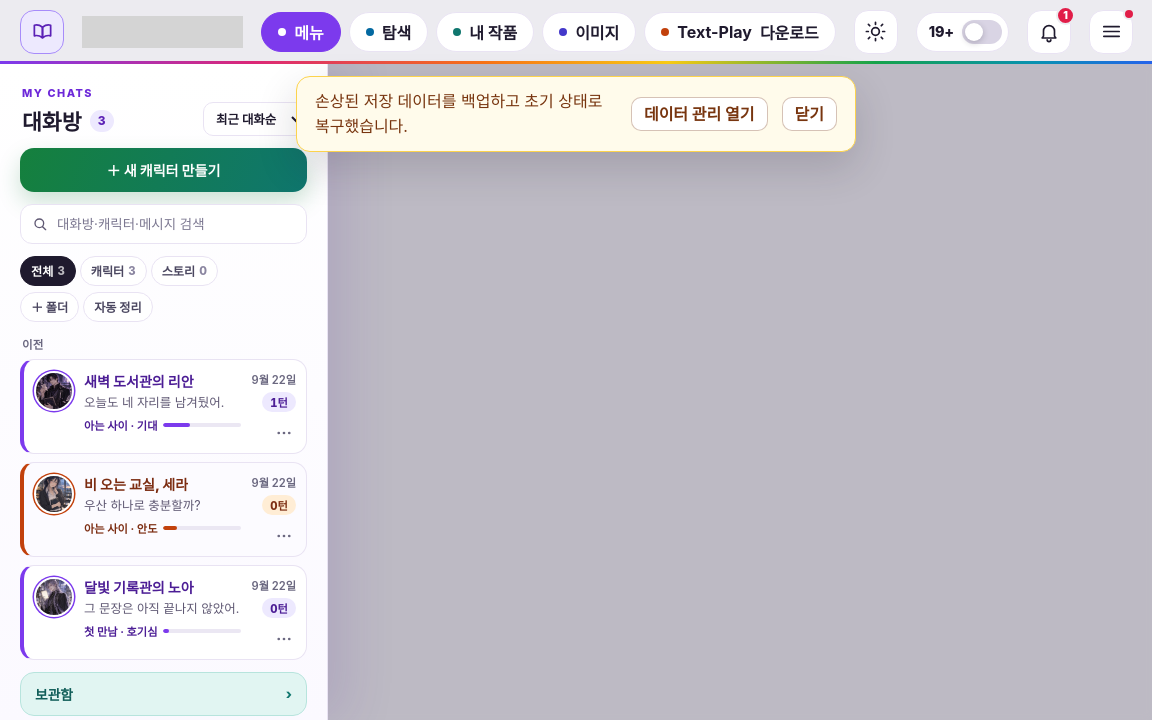
저장소 상태 안내 › 손상 데이터를 복구했다는 안내와 데이터 관리 링크를 보여 주고 닫을 수 있다
Step 1. Click the button "닫기" → (809, 114), box left=782, top=97, right=837, bottom=131
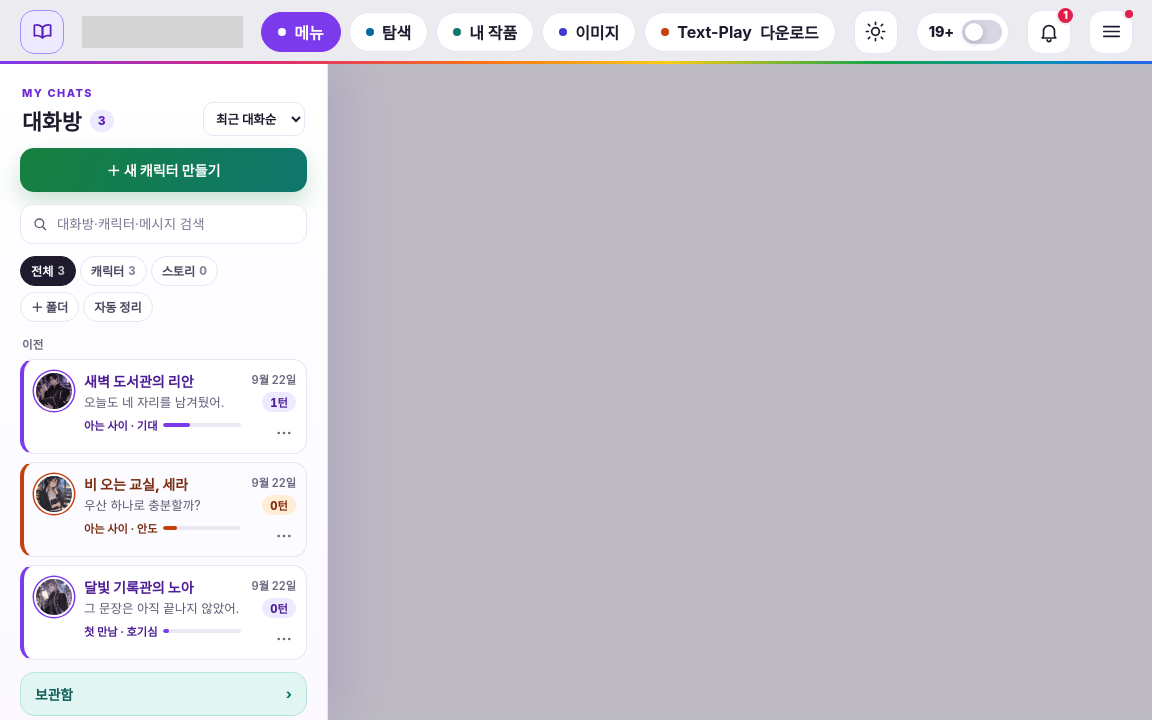
Now the text "손상된 저장 데이터를 백업하고 초기 상태로 복구했습니다." is gone
